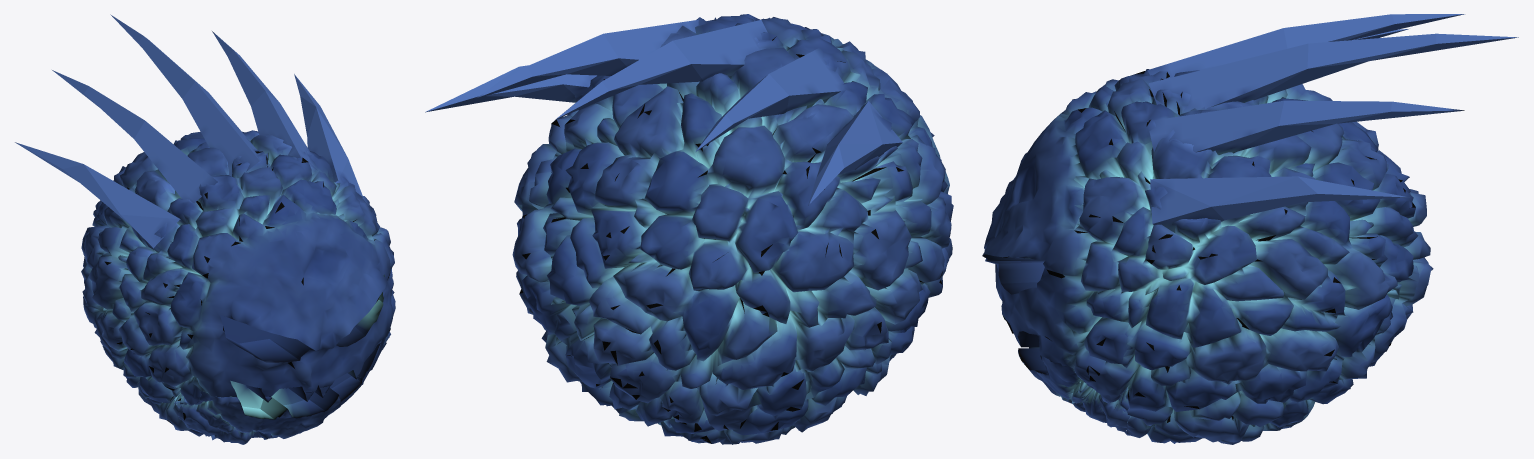
Rendered from BlueComet.fbx.
The picture shows the model from 3 angles, left to right: view 1: azimuth 30°, elevation 25°; view 2: azimuth 150°, elevation 25°; view 3: azimuth 270°, elevation 25°; orthographic projection. The views are drawn at different scales.
Parts seen in each view (by area): view 1: Body, Jaw; view 2: Body; view 3: Body, Jaw.
Boxes of the visible parts, x1=… form: Body: x1=15, y1=14, x2=395, y2=444; Jaw: x1=171, y1=350, x2=381, y2=444; Body: x1=425, y1=14, x2=953, y2=444; Body: x1=982, y1=14, x2=1518, y2=444; Jaw: x1=1004, y1=319, x2=1131, y2=435.
Bounding box in the file's own units: 1.06 × 1.15 × 1.42.
Materials: 2 (2 with a texture image).
